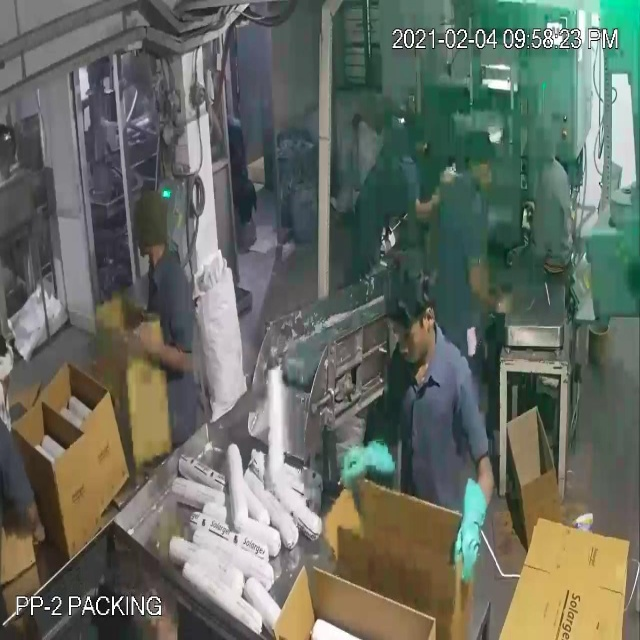Guantes: (448, 444, 499, 584), (326, 434, 398, 502)
Sin_guantes: (124, 311, 205, 386), (8, 443, 46, 548), (459, 241, 500, 313), (403, 182, 455, 228)
